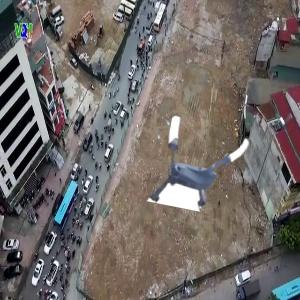drone: (154, 116, 251, 213)
